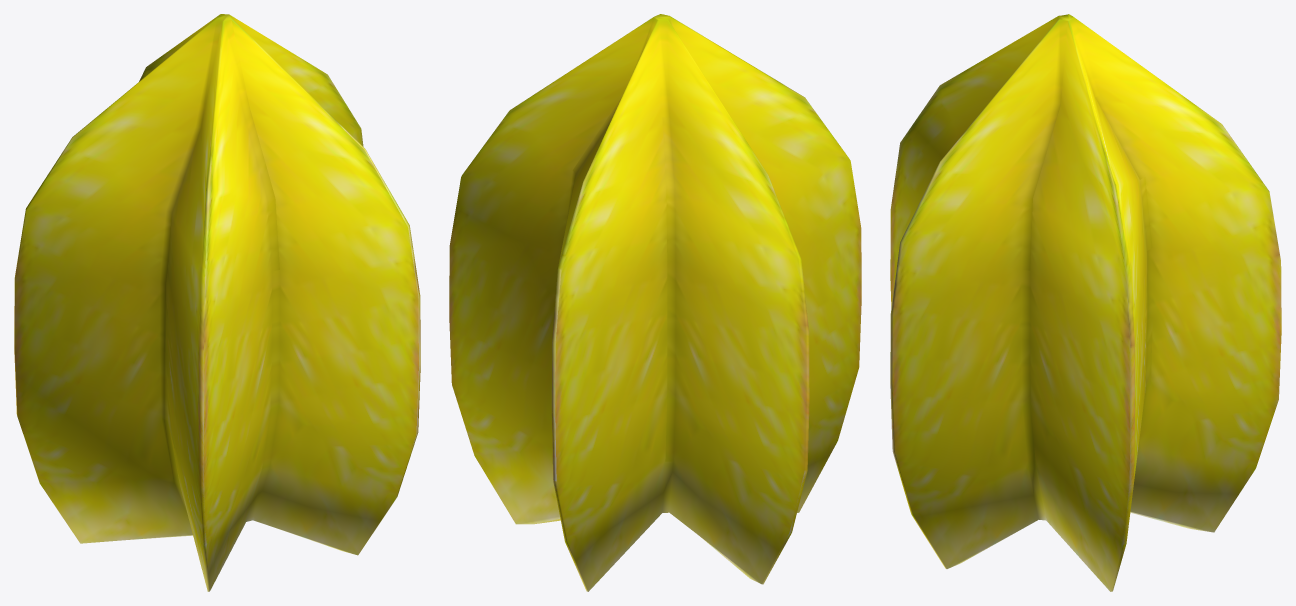
The model's file is karambola.fbx.
The picture shows the model from 3 angles, left to right: view 1: azimuth 30°, elevation 25°; view 2: azimuth 150°, elevation 25°; view 3: azimuth 270°, elevation 25°; orthographic projection.
Parts seen in each view (by area): view 1: Цилиндр; view 2: Цилиндр; view 3: Цилиндр.
Boxes of the visible parts, box(x1,y1,x2,y2) form: Цилиндр: box(14, 14, 420, 591); Цилиндр: box(449, 14, 861, 591); Цилиндр: box(890, 14, 1281, 591).
Size of the model in its own units: 241 by 334 by 229.
Materials: 1 (1 with a texture image).
